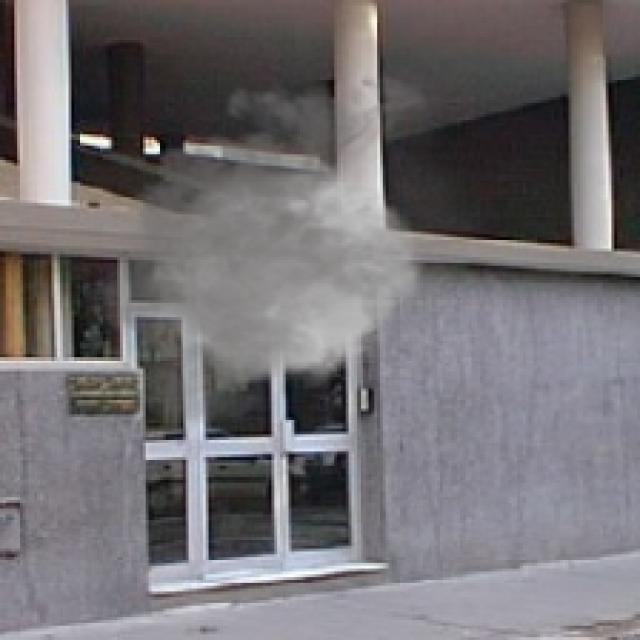smoke: (72, 63, 497, 440)
